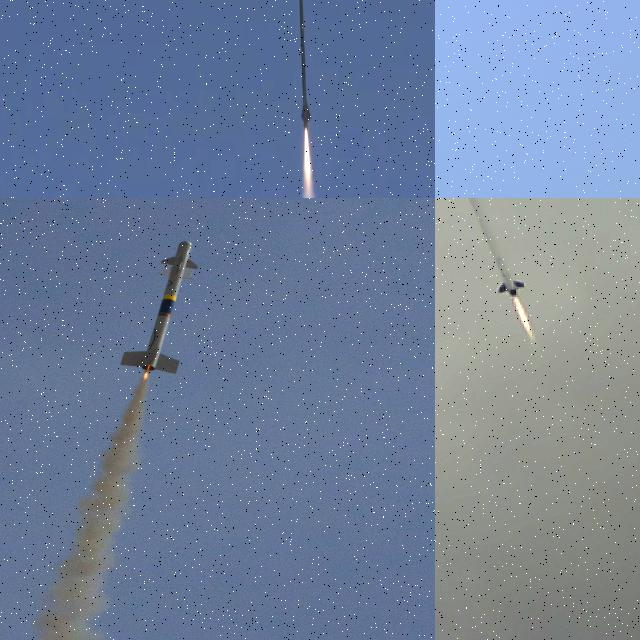Rocket: (119, 239, 197, 374), (454, 198, 525, 298), (296, 0, 314, 134)
